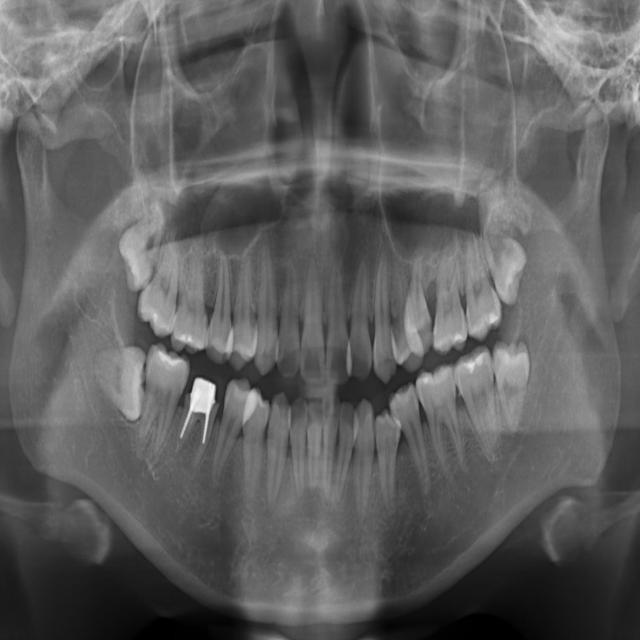CompositeResinRestoration: (186, 377, 222, 408), (153, 344, 183, 376), (460, 349, 485, 386), (178, 328, 198, 352), (452, 328, 468, 352), (487, 311, 504, 332)
ImpactedTooth: (101, 330, 147, 428), (490, 338, 536, 422), (116, 214, 164, 290)
RootCanalTreatment: (168, 437, 212, 477)
post: (178, 403, 192, 447), (198, 414, 214, 448)
